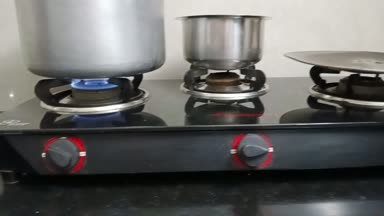flame_gas_off: (185, 54, 281, 174)
flame_gas_on: (25, 66, 148, 179)
